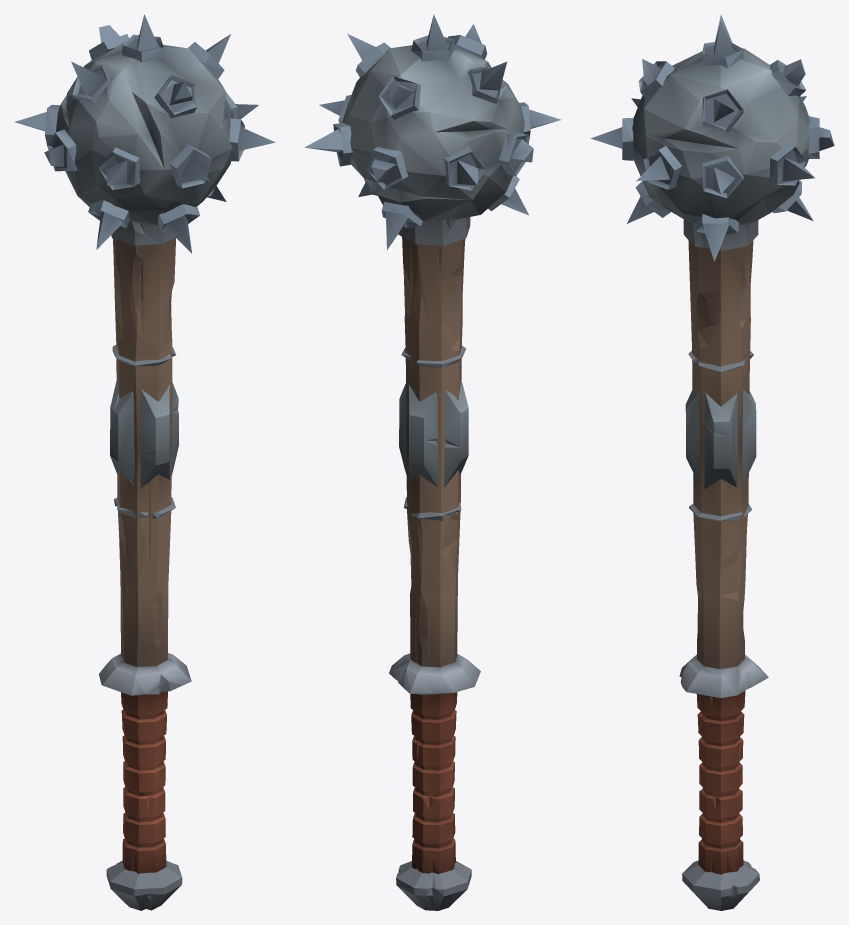
Rendered from epic_MorningStar.fbx.
3 renders of one model, left to right at view 1: azimuth 30°, elevation 25°; view 2: azimuth 150°, elevation 25°; view 3: azimuth 270°, elevation 25°, orthographic.
Visible parts, largest first — view 1: MorningStar; view 2: MorningStar; view 3: MorningStar.
Part boxes in pixels (box(x1,y1,x2,y2)): MorningStar: box(14, 14, 275, 910); MorningStar: box(304, 14, 561, 910); MorningStar: box(590, 14, 834, 910).
Bounding box in the file's own units: 0.3993 × 1.6 × 0.3997.
